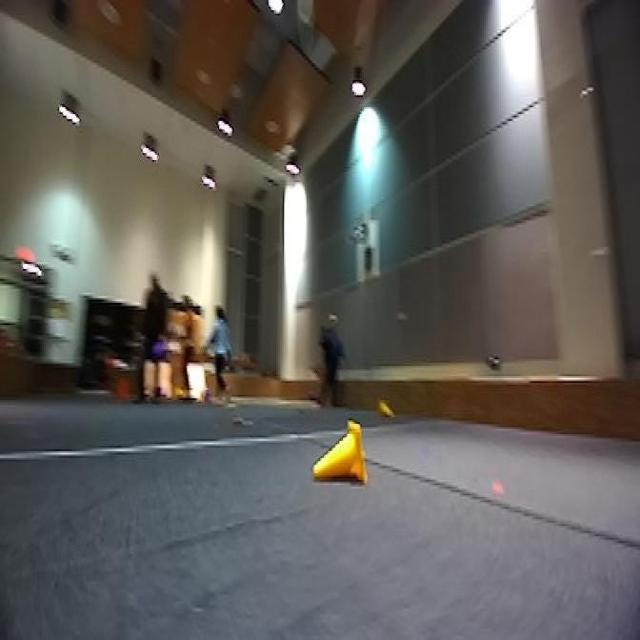frc_cone: (312, 417, 367, 489), (372, 394, 398, 421)
frc_cube: (146, 339, 168, 369)
